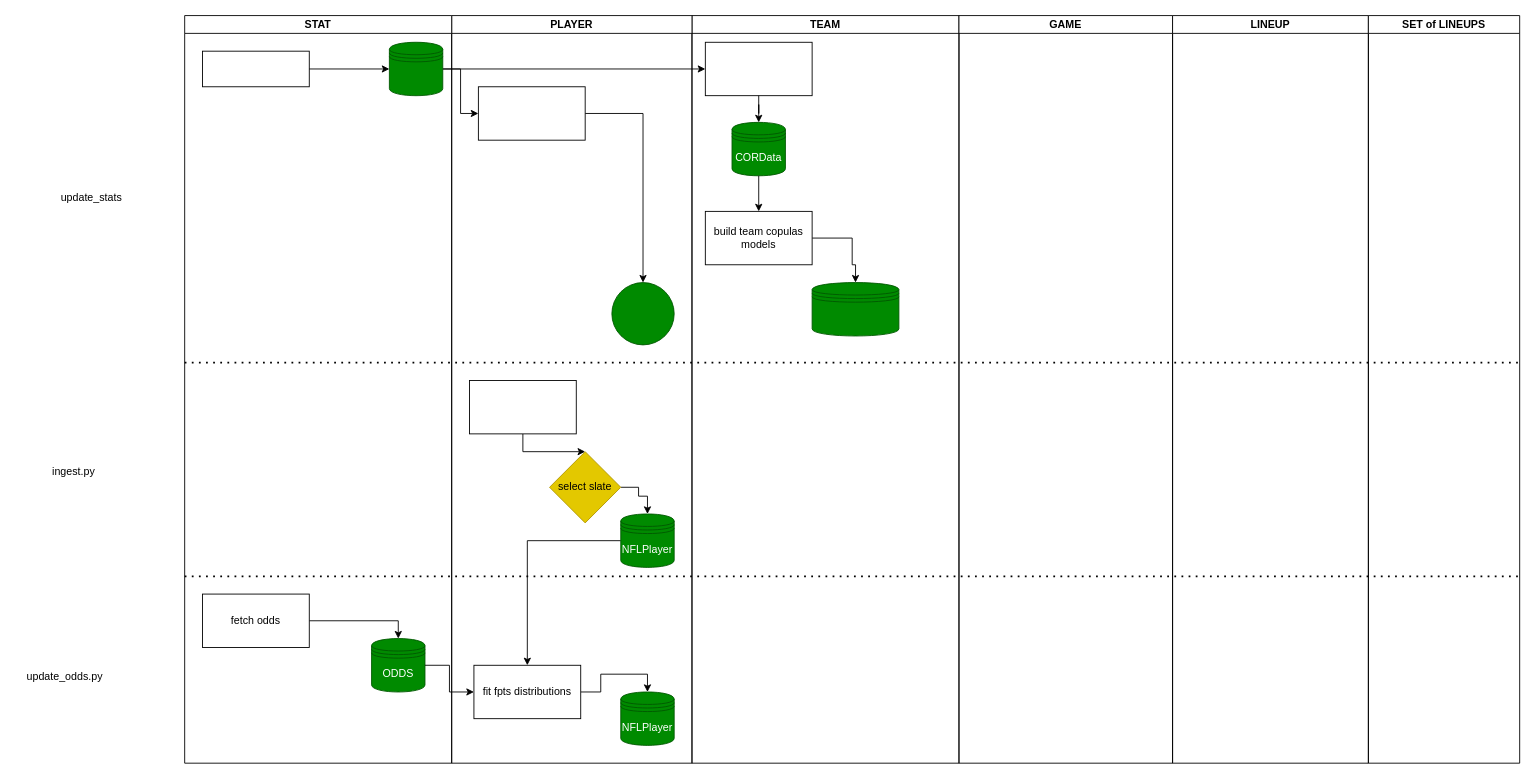
Image size: 1536x779. Some labels were removed from this diagram. Each missing label, with the centre of its shape:
"build_player_models" belongs at (x=531, y=113).
"get slates" belongs at (x=522, y=407).
"get_historical_stats" belongs at (x=255, y=68).
"NFLStats" belongs at (x=415, y=68).
"parse data into game_corr friendly format" belongs at (x=758, y=68).
"position marginals" belongs at (x=642, y=313).
"team copulas" belongs at (x=855, y=309).
